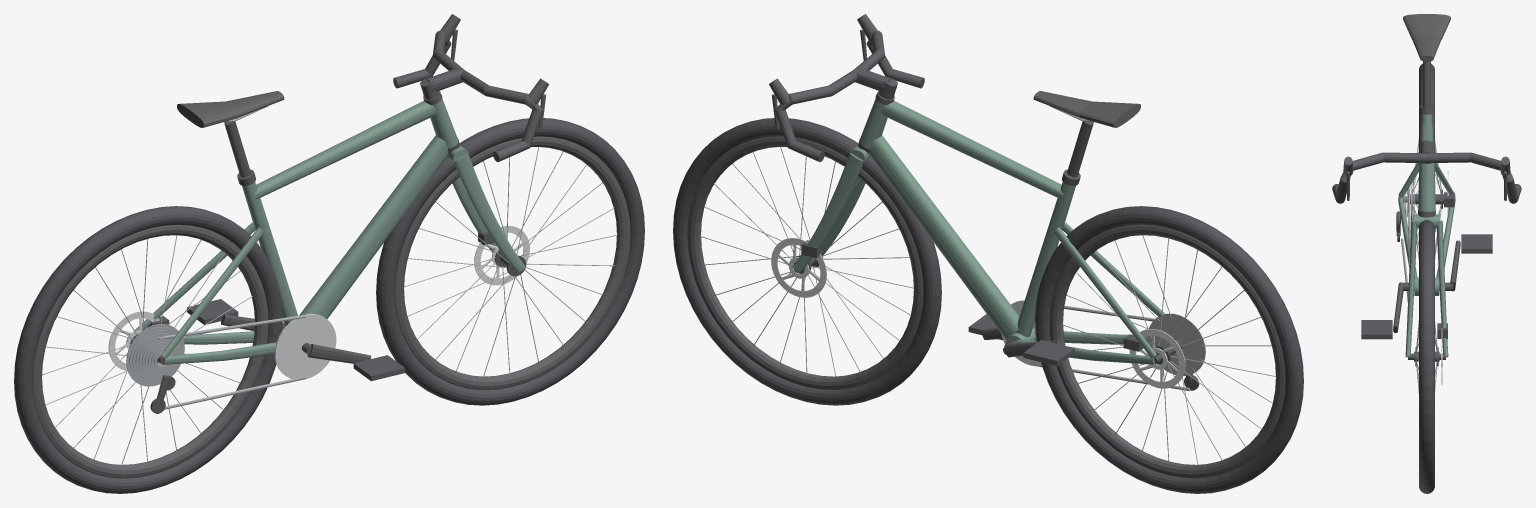
File: bikerumor-g32-superfast.glb
3 views of the same model, side by side, from view 1: azimuth 30°, elevation 25°; view 2: azimuth 150°, elevation 25°; view 3: azimuth 270°, elevation 25° (orthographic). The views are drawn at different scales.
Parts seen in each view (by area): view 1: rear_wheel_tire, front_wheel_tire, rear_wheel_rim, front_wheel_rim, frame_downtube, frame_toptube, front_wheel_spokes, cockpit_dropbar, drivetrain_chainring, drivetrain_crankset, fork_rigid_blades, rear_wheel_spokes (+12 smaller); view 2: rear_wheel_tire, front_wheel_tire, rear_wheel_rim, front_wheel_rim, frame_downtube, frame_toptube, cockpit_dropbar, front_wheel_spokes, rear_wheel_spokes, fork_rigid_blades, frame_seattube, rear_seatstays (+11 smaller); view 3: front_wheel_tire, cockpit_dropbar, drivetrain_crankset, fork_rigid_blades, saddle_shell, frame_headtube, rear_chainstays, cockpit_shifter_hoods, rear_wheel_tire, rear_seatstays, seatpost_aero, rear_wheel_spokes (+6 smaller).
Part boxes in pixels (x1=…): rear_wheel_tire: x1=14, y1=206, x2=282, y2=493; front_wheel_tire: x1=376, y1=118, x2=644, y2=405; rear_wheel_rim: x1=32, y1=225, x2=268, y2=478; front_wheel_rim: x1=394, y1=136, x2=630, y2=389; frame_downtube: x1=299, y1=135, x2=448, y2=318; frame_toptube: x1=254, y1=101, x2=436, y2=199; front_wheel_spokes: x1=404, y1=147, x2=617, y2=377; cockpit_dropbar: x1=393, y1=30, x2=543, y2=162; drivetrain_chainring: x1=274, y1=314, x2=336, y2=379; drivetrain_crankset: x1=187, y1=299, x2=405, y2=381; fork_rigid_blades: x1=447, y1=145, x2=525, y2=272; rear_wheel_spokes: x1=42, y1=235, x2=252, y2=465; rear_wheel_tire: x1=1035, y1=206, x2=1303, y2=493; front_wheel_tire: x1=673, y1=118, x2=941, y2=405; rear_wheel_rim: x1=1049, y1=225, x2=1285, y2=478; front_wheel_rim: x1=687, y1=136, x2=923, y2=389; frame_downtube: x1=869, y1=135, x2=1019, y2=339; frame_toptube: x1=881, y1=101, x2=1063, y2=199; cockpit_dropbar: x1=774, y1=30, x2=924, y2=162; front_wheel_spokes: x1=699, y1=147, x2=913, y2=376; rear_wheel_spokes: x1=1061, y1=235, x2=1275, y2=464; fork_rigid_blades: x1=792, y1=145, x2=870, y2=272; frame_seattube: x1=1015, y1=182, x2=1075, y2=337; rear_seatstays: x1=1053, y1=222, x2=1165, y2=358; front_wheel_tire: x1=1419, y1=220, x2=1434, y2=493; cockpit_dropbar: x1=1332, y1=152, x2=1521, y2=203; drivetrain_crankset: x1=1361, y1=234, x2=1492, y2=339; fork_rigid_blades: x1=1405, y1=214, x2=1448, y2=357; saddle_shell: x1=1403, y1=14, x2=1450, y2=61; frame_headtube: x1=1418, y1=163, x2=1435, y2=211; rear_chainstays: x1=1398, y1=197, x2=1455, y2=277; cockpit_shifter_hoods: x1=1343, y1=156, x2=1510, y2=200; rear_wheel_tire: x1=1419, y1=63, x2=1434, y2=152; rear_seatstays: x1=1398, y1=163, x2=1455, y2=198; seatpost_aero: x1=1423, y1=61, x2=1430, y2=106; rear_wheel_spokes: x1=1412, y1=139, x2=1441, y2=259.
Bounding box in the file's own units: 1.81 × 1.02 × 0.5316.
